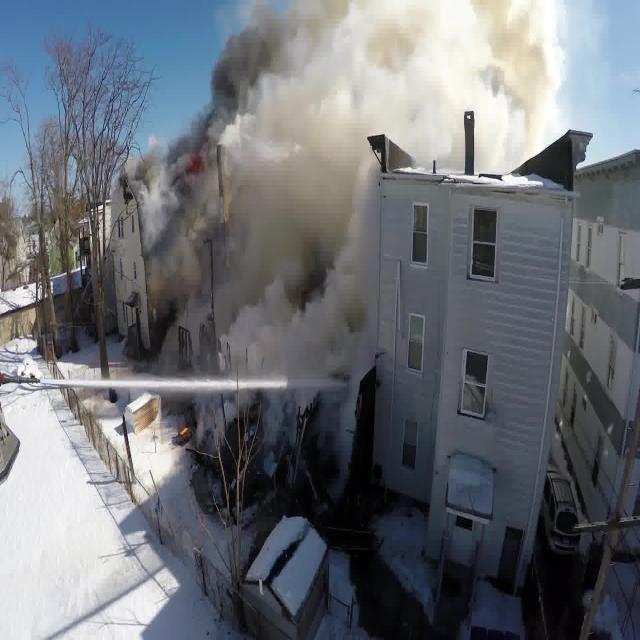Smoke: (119, 0, 567, 396)
